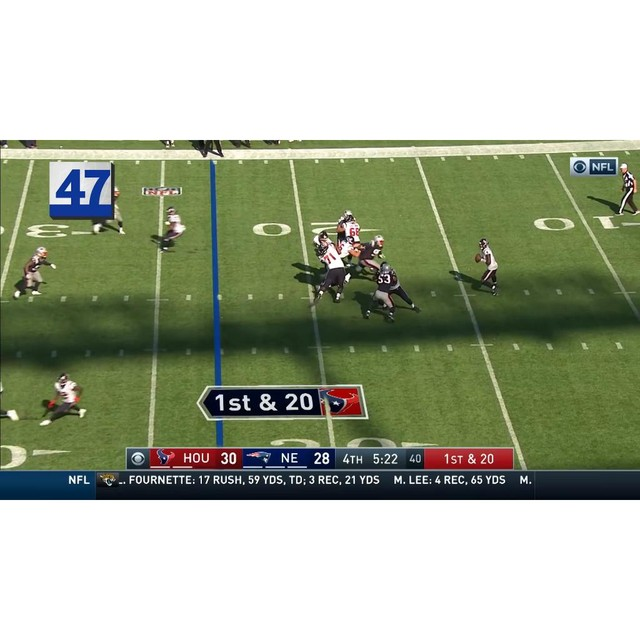american-football-player: (40, 373, 86, 427), (14, 247, 55, 300), (314, 243, 348, 304), (364, 263, 398, 322), (348, 236, 386, 281), (92, 186, 126, 235), (155, 206, 188, 252), (474, 238, 500, 296), (334, 209, 353, 252), (313, 229, 336, 257)
referee: (617, 163, 640, 217)
